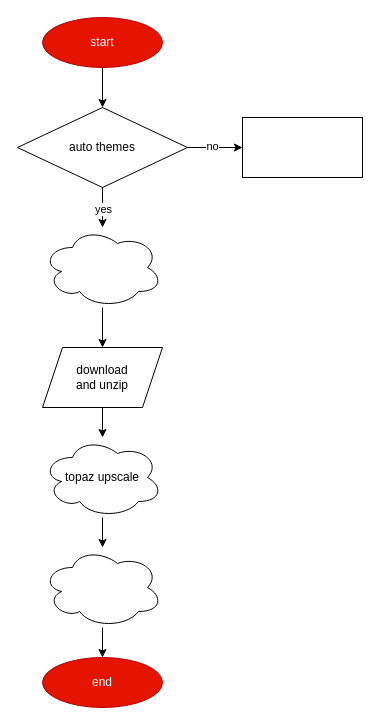
Image size: 380x725. Some labels were removed from this diagram. The shapes that lost their labels are listed below. From the top down, each one's centre as x and y in pixels, then its label:
the point at 302,147: manual input
the point at 102,267: Midjourney +Discord
the point at 102,587: upload to adobe stock
